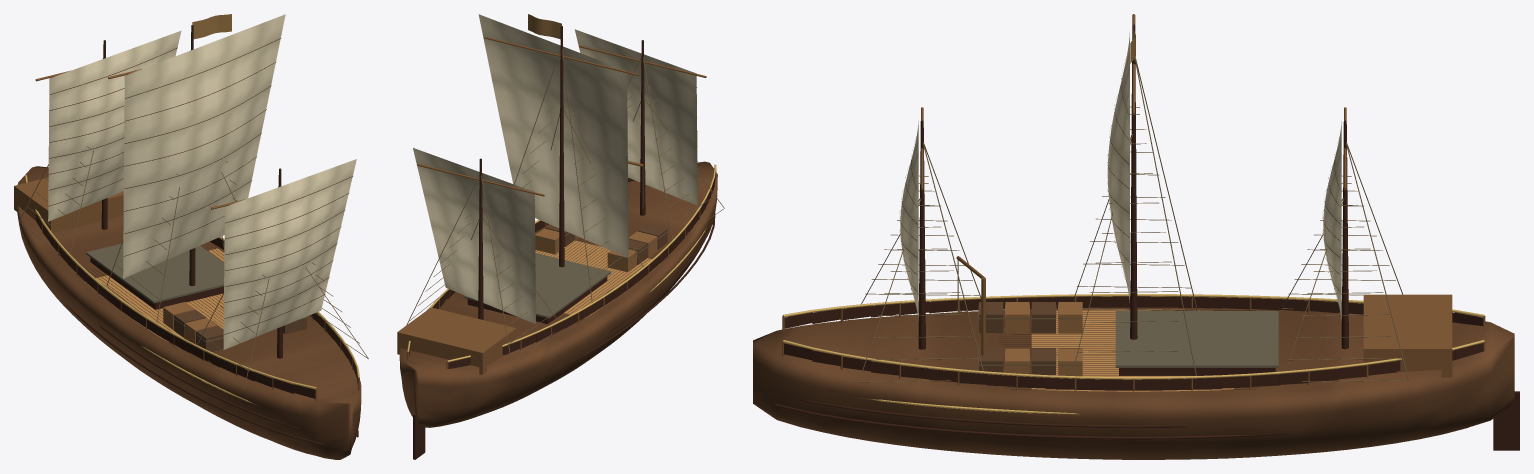
Rendered from merchant-lod0.glb.
3 renders of one model, left to right at view 1: azimuth 30°, elevation 25°; view 2: azimuth 150°, elevation 25°; view 3: azimuth 270°, elevation 25°, orthographic. The views are drawn at different scales.
Parts seen in each view (by area): view 1: sail_02, hull, sail_03, sail_01, fittings_wood, fittings_deck, fittings_trim, deck, cargo_hold_body, flag_01; view 2: sail_02, hull, sail_01, fittings_wood, sail_03, fittings_trim, fittings_deck, deck, mast_timber_02, mast_timber_03, mast_timber_01, cargo_hold_body (+5 smaller); view 3: hull, fittings_wood, fittings_trim, fittings_deck, deck, sail_02, sail_03, sail_01, mast_timber_02, mast_timber_03, mast_timber_01, rudder_pivot (+1 smaller).
Part boxes in pixels (left/top/right/bottom): sail_02: left=123, top=14, right=285, bottom=278; hull: left=17, top=166, right=361, bottom=459; sail_03: left=223, top=159, right=356, bottom=349; sail_01: left=48, top=30, right=181, bottom=221; fittings_wood: left=14, top=177, right=359, bottom=445; fittings_deck: left=75, top=242, right=311, bottom=350; fittings_trim: left=19, top=50, right=368, bottom=406; deck: left=86, top=248, right=224, bottom=341; cargo_hold_body: left=90, top=257, right=223, bottom=309; flag_01: left=192, top=14, right=231, bottom=39; sail_02: left=478, top=14, right=628, bottom=258; hull: left=399, top=161, right=717, bottom=427; sail_01: left=413, top=148, right=535, bottom=323; fittings_wood: left=397, top=160, right=716, bottom=374; sail_03: left=574, top=29, right=697, bottom=205; fittings_trim: left=406, top=49, right=724, bottom=362; fittings_deck: left=453, top=227, right=670, bottom=324; deck: left=535, top=233, right=659, bottom=317; mast_timber_02: left=559, top=26, right=564, bottom=267; mast_timber_03: left=640, top=40, right=645, bottom=215; mast_timber_01: left=478, top=158, right=483, bottom=319; cargo_hold_body: left=467, top=276, right=607, bottom=323; hull: left=753, top=307, right=1514, bottom=459; fittings_wood: left=775, top=256, right=1485, bottom=439; fittings_trim: left=783, top=57, right=1484, bottom=414; fittings_deck: left=999, top=310, right=1278, bottom=389; deck: left=1031, top=309, right=1233, bottom=391; sail_02: left=1107, top=33, right=1129, bottom=302; sail_03: left=899, top=121, right=918, bottom=321; sail_01: left=1322, top=121, right=1341, bottom=320; mast_timber_02: left=1130, top=24, right=1137, bottom=339; mast_timber_03: left=918, top=120, right=925, bottom=349; mast_timber_01: left=1341, top=120, right=1348, bottom=349; rudder_pivot: left=1493, top=391, right=1519, bottom=450.
Size of the model in its own units: 11.55 by 22.36 by 36.26.
